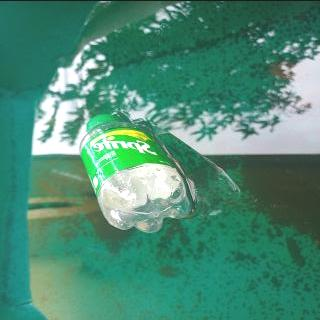bottle: (76, 111, 196, 234)
